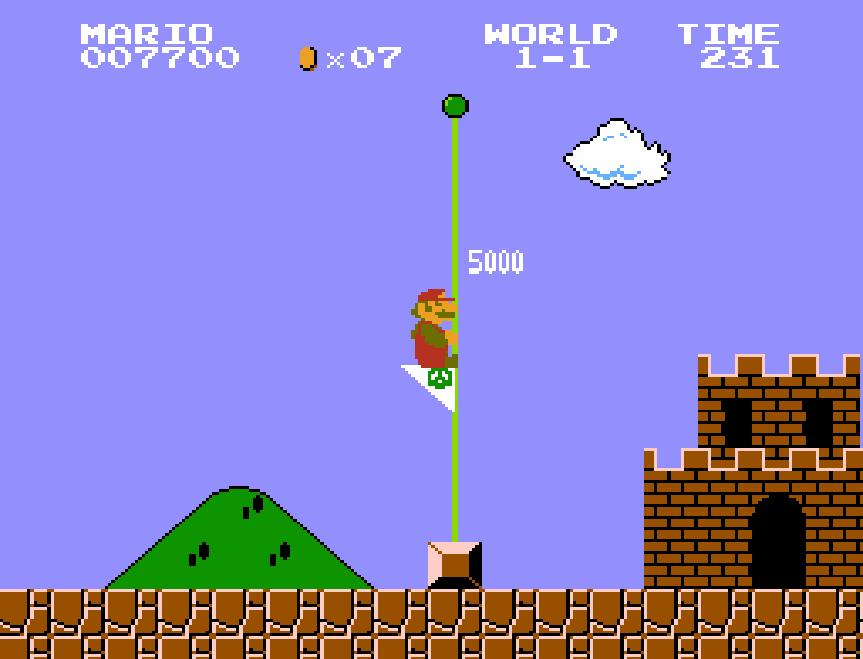big_mario: (402, 280, 461, 378)
